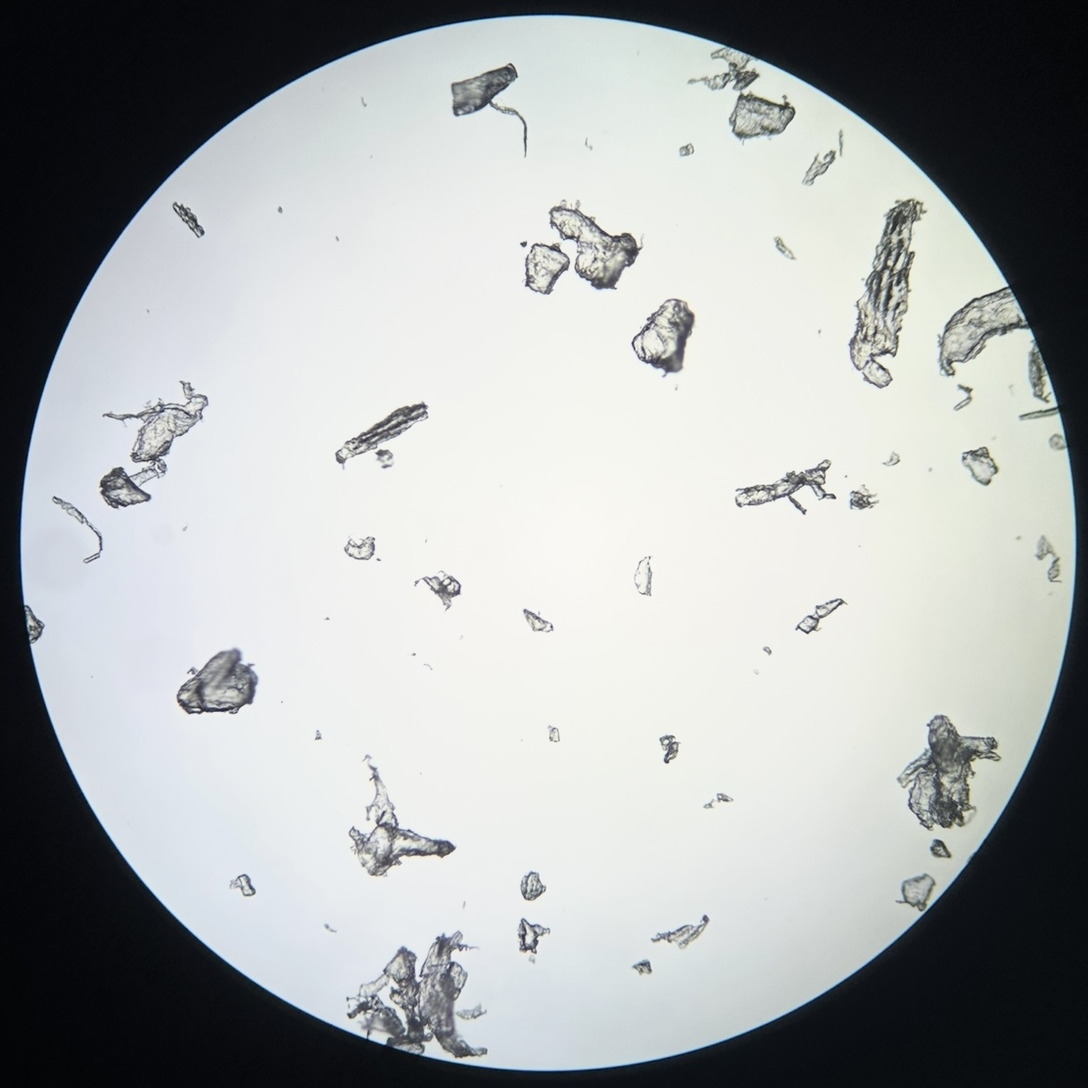microplastic: (347, 932, 487, 1063), (850, 200, 925, 389), (351, 757, 453, 875), (897, 715, 1001, 829), (103, 383, 210, 462), (937, 287, 1031, 376), (549, 201, 643, 289), (451, 64, 528, 158), (735, 459, 836, 515), (336, 403, 427, 463), (178, 651, 258, 713), (632, 300, 694, 378), (51, 497, 104, 563), (686, 47, 760, 91), (99, 462, 166, 510), (730, 93, 796, 140), (527, 243, 569, 293), (413, 571, 461, 612), (652, 916, 709, 950), (796, 598, 846, 634), (895, 875, 937, 911), (1030, 340, 1052, 403), (1034, 536, 1063, 583), (963, 448, 998, 485), (171, 202, 204, 241), (802, 151, 835, 186), (518, 919, 550, 954), (523, 607, 553, 634), (23, 605, 43, 645), (850, 484, 878, 511), (344, 538, 375, 560), (520, 873, 545, 900), (659, 735, 680, 764), (1018, 406, 1058, 421), (636, 556, 651, 595), (230, 875, 256, 895), (774, 237, 796, 260), (954, 385, 972, 410), (930, 838, 952, 858), (881, 451, 900, 467), (376, 451, 391, 468), (634, 960, 652, 974), (548, 724, 561, 743), (1050, 435, 1067, 449), (679, 144, 693, 156), (718, 792, 733, 802), (703, 798, 714, 810)
